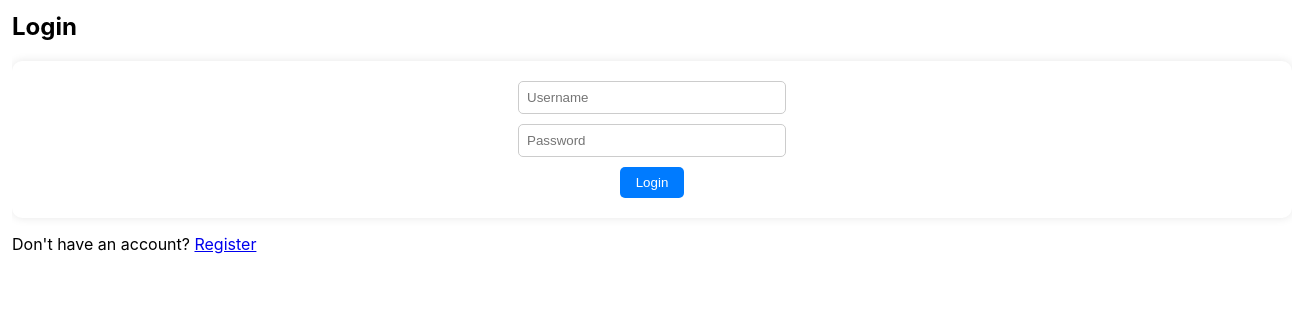
Login Component › displays error message for failed login
This screenshot has width=1292, height=323.
Click the button with test id "login-button" at (652, 182), box [620,167,684,198]
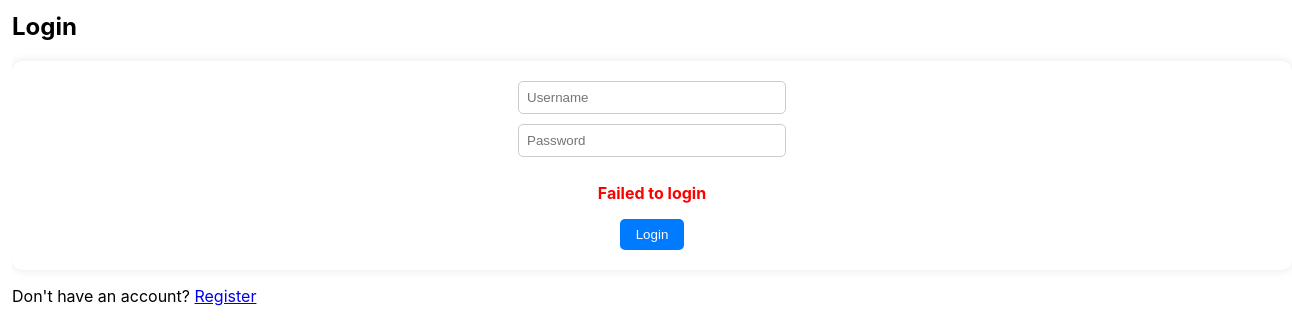
Check: the text "Failed to login" is shown, box [598,183,706,203]
